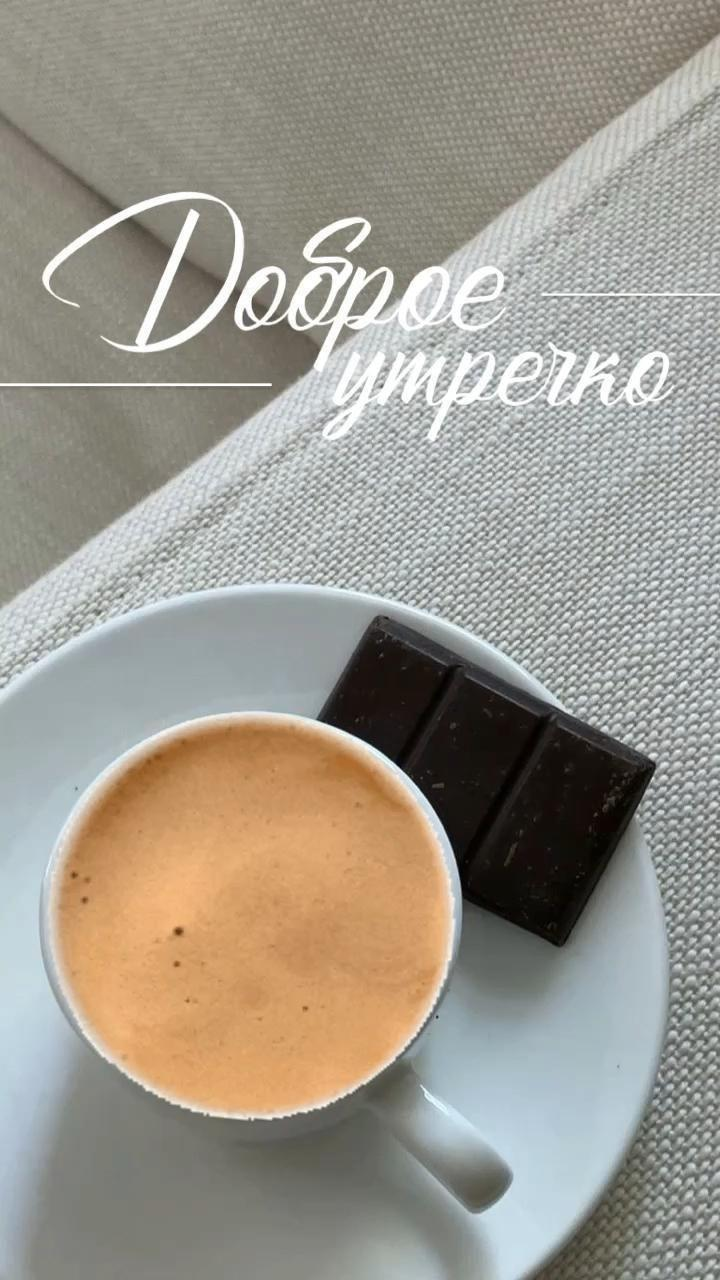cup-handle: (34, 707, 513, 1216)
